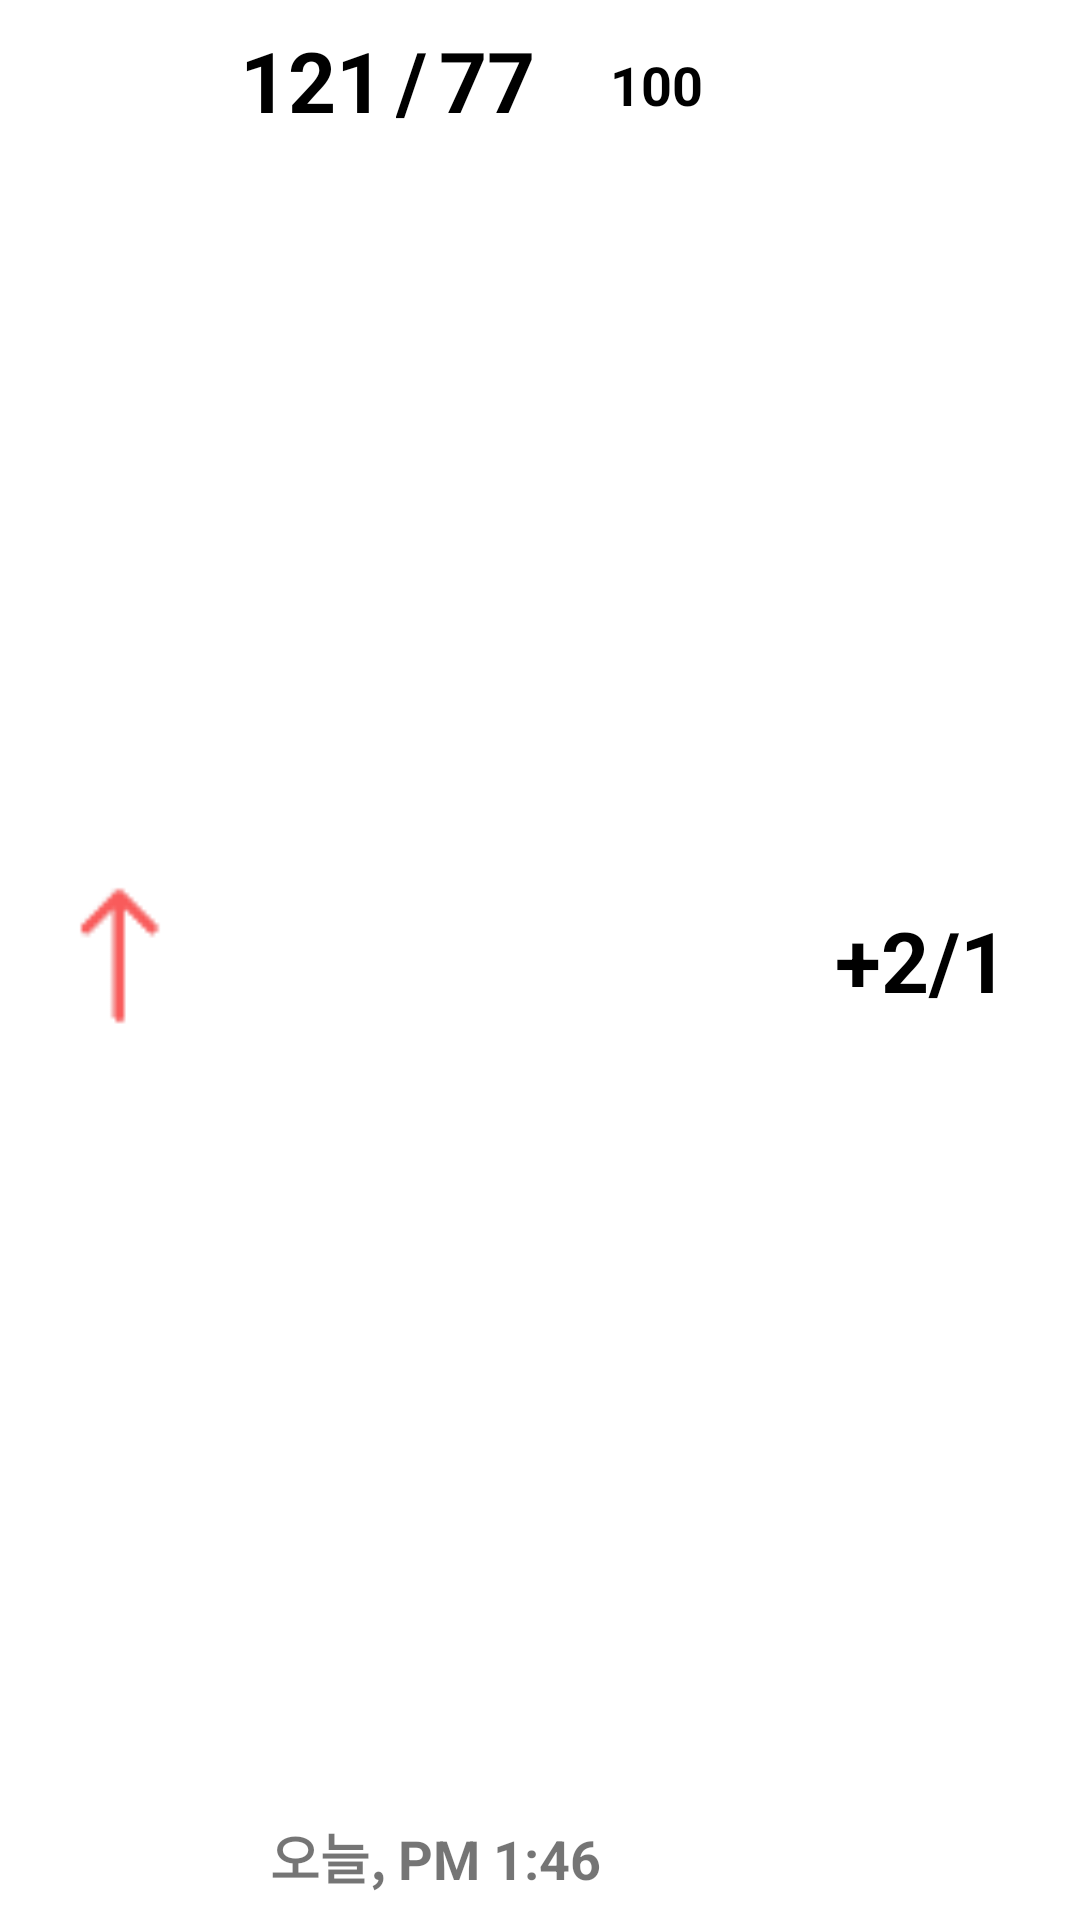

Screen size 1080*1920. Icon name, then its center in pixels as point (x, y):
redarrow: point (120, 956)
